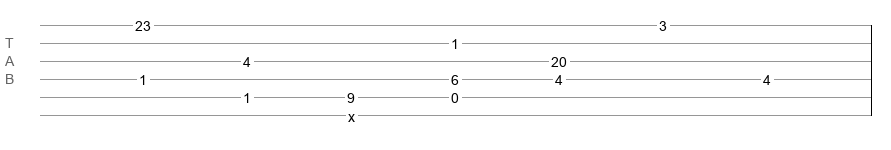0: (451, 90, 459, 100)
1: (139, 72, 147, 82), (243, 90, 251, 100), (451, 36, 459, 46)
20: (551, 54, 567, 64)
23: (135, 18, 151, 28)
3: (659, 18, 667, 28)
4: (243, 54, 251, 64), (555, 72, 563, 82), (763, 72, 771, 82)
6: (451, 72, 459, 82)
9: (347, 90, 355, 100)
x: (348, 109, 355, 117)
